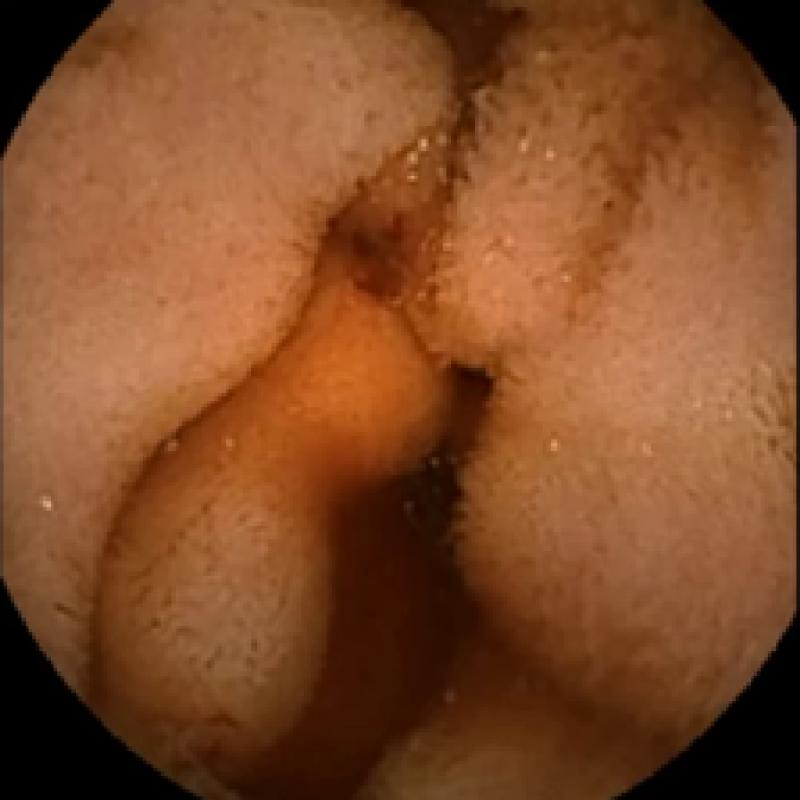bleeding: (194, 369, 486, 800), (322, 182, 454, 329)
